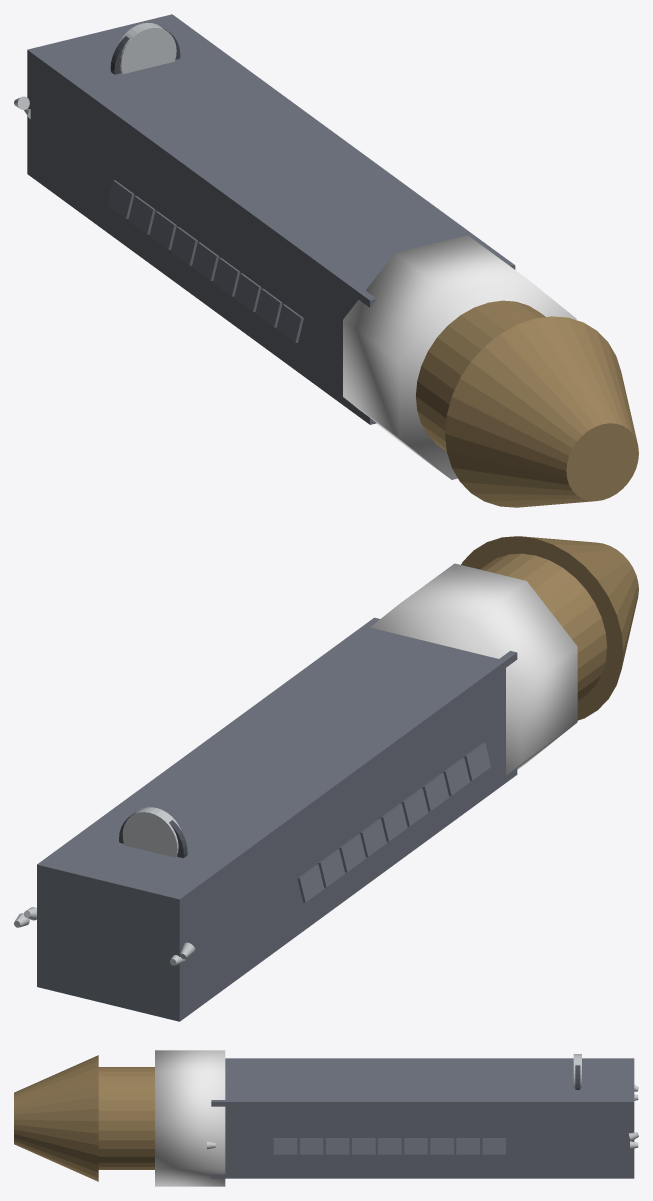
File: wlv01_exterior.glb
3 renders of one model, top to bottom at view 1: azimuth 30°, elevation 25°; view 2: azimuth 150°, elevation 25°; view 3: azimuth 270°, elevation 25°, orthographic. The views are drawn at different scales.
Visible parts, largest first — view 1: Ext_Spine, Ext_EngineNozzle, Ext_AftFairing, Ext_EngineHousing, Ext_DockingPort, Ext_Radiator_L_0, Ext_Radiator_L_1, Ext_Radiator_L_3, Ext_Radiator_L_5, Ext_Radiator_L_7, Ext_Radiator_L_4, Ext_Radiator_L_6; view 2: Ext_Spine, Ext_AftFairing, Ext_EngineNozzle, Ext_EngineHousing, Ext_DockingPort; view 3: Ext_Spine, Ext_AftFairing, Ext_EngineNozzle, Ext_EngineHousing, Ext_Radiator_R_0, Ext_Radiator_R_1, Ext_Radiator_R_2, Ext_Radiator_R_3, Ext_Radiator_R_4, Ext_Radiator_R_5, Ext_Radiator_R_6, Ext_Radiator_R_7 (+2 smaller).
Boxes of the visible parts, bbox=[...] form: Ext_Spine: bbox=[27, 14, 515, 424]; Ext_EngineNozzle: bbox=[445, 316, 638, 507]; Ext_AftFairing: bbox=[343, 235, 576, 479]; Ext_EngineHousing: bbox=[415, 300, 545, 451]; Ext_DockingPort: bbox=[117, 22, 176, 73]; Ext_Radiator_L_0: bbox=[276, 304, 303, 342]; Ext_Radiator_L_1: bbox=[255, 288, 282, 327]; Ext_Radiator_L_3: bbox=[213, 257, 240, 296]; Ext_Radiator_L_5: bbox=[170, 226, 197, 265]; Ext_Radiator_L_7: bbox=[128, 195, 155, 234]; Ext_Radiator_L_4: bbox=[192, 242, 219, 280]; Ext_Radiator_L_6: bbox=[149, 211, 176, 249]; Ext_Spine: bbox=[37, 617, 517, 1021]; Ext_AftFairing: bbox=[370, 563, 577, 775]; Ext_EngineNozzle: bbox=[461, 536, 638, 720]; Ext_EngineHousing: bbox=[479, 553, 607, 701]; Ext_DockingPort: bbox=[122, 807, 181, 857]; Ext_Spine: bbox=[211, 1058, 634, 1178]; Ext_AftFairing: bbox=[155, 1050, 225, 1186]; Ext_EngineNozzle: bbox=[14, 1055, 98, 1181]; Ext_EngineHousing: bbox=[98, 1067, 154, 1169]; Ext_Radiator_R_0: bbox=[273, 1138, 297, 1154]; Ext_Radiator_R_1: bbox=[300, 1138, 323, 1154]; Ext_Radiator_R_2: bbox=[326, 1138, 349, 1154]; Ext_Radiator_R_3: bbox=[352, 1138, 375, 1154]; Ext_Radiator_R_4: bbox=[378, 1138, 401, 1154]; Ext_Radiator_R_5: bbox=[404, 1138, 427, 1154]; Ext_Radiator_R_6: bbox=[430, 1138, 453, 1154]; Ext_Radiator_R_7: bbox=[456, 1138, 479, 1154].
Size of the model in its own units: 2.93 by 2.82 by 13.3.
